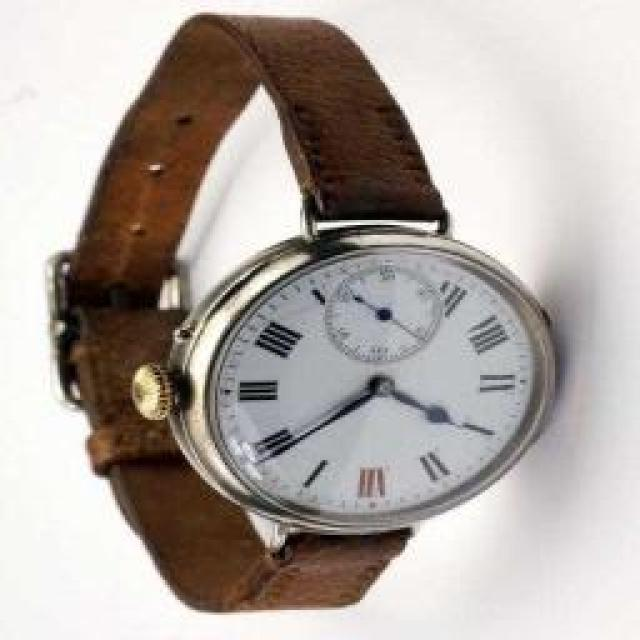saat: (38, 9, 563, 605)
